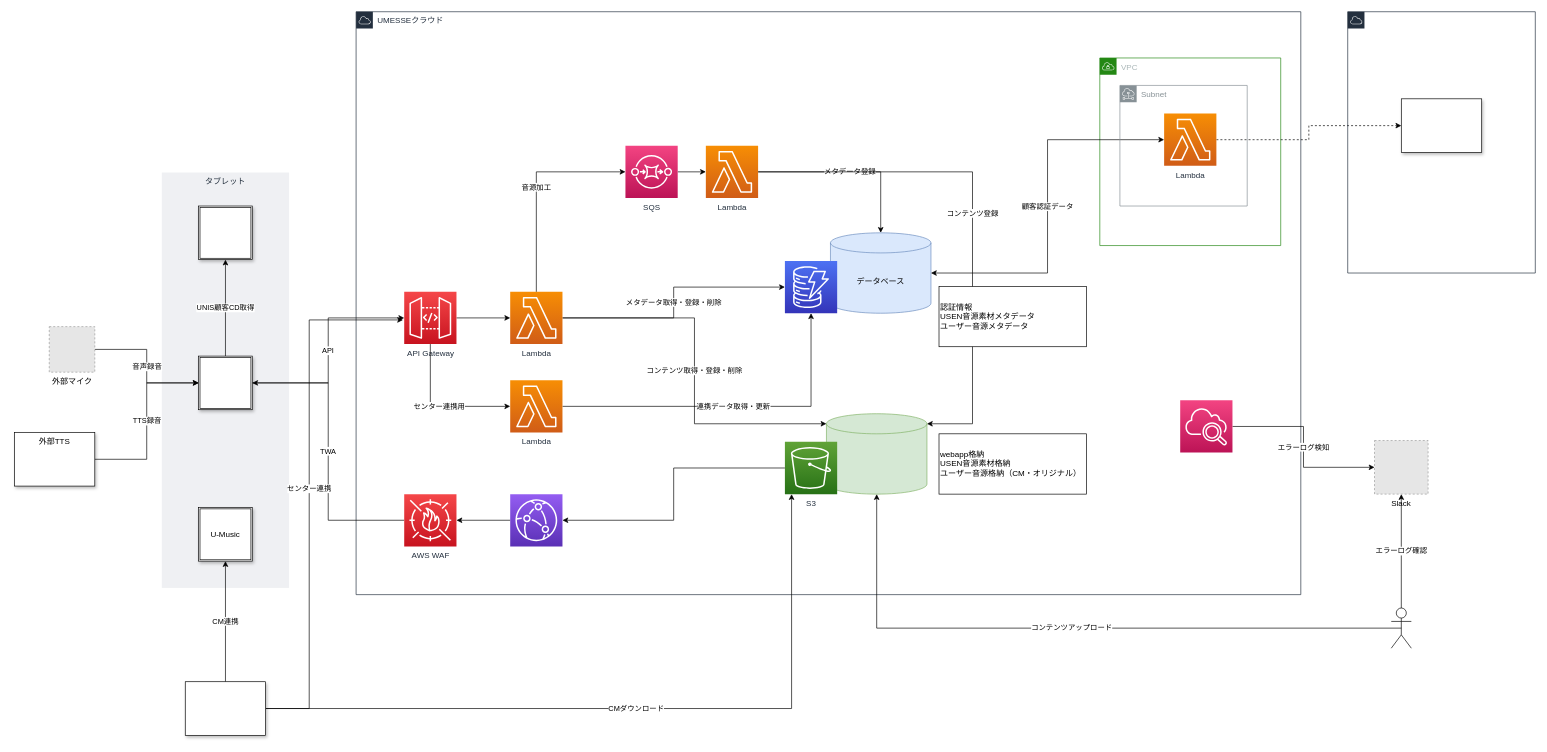
Some shapes in this 1547 by 752 pixel diagram are drawn without their labels. Grey dashed boxes stand in for pictures. The centre of each missing label's shape, as x and y in pixels:
CloudFront: (536,519)
CloudWatch: (1206,426)
DynamoDB: (810,286)
MDM: (225,233)
U-Messe: (225,383)
UDS API: (1442,126)
USEN: (1401,627)
ストレージ: (876,453)
センター: (226,709)
